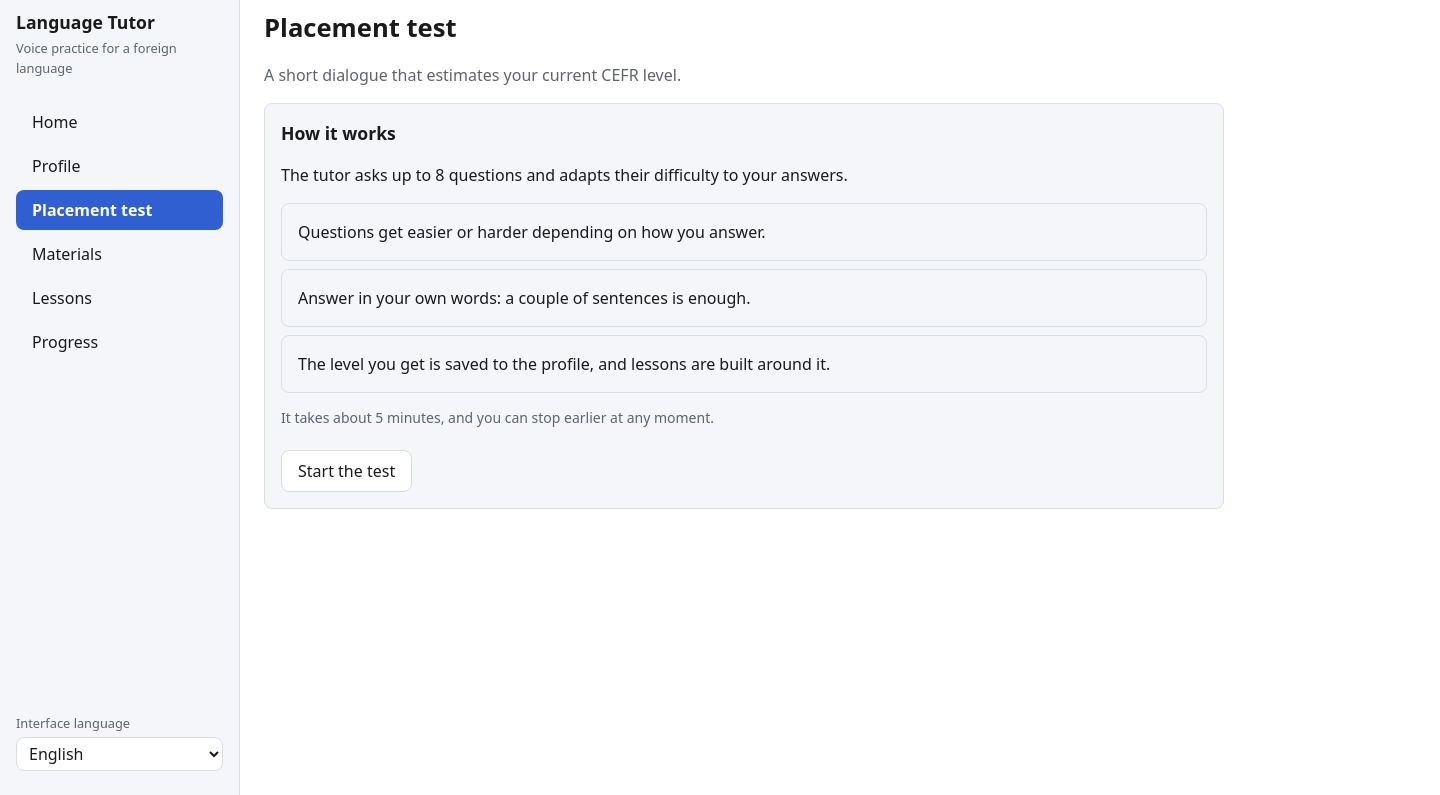
сквозной прогон теста › ведёт от интро через три ответа к уровню и записывает его в профиль
The width and height of the screenshot is (1440, 795).
Step 1. Click the button "Start the test" → (347, 471), box [281, 450, 412, 492]
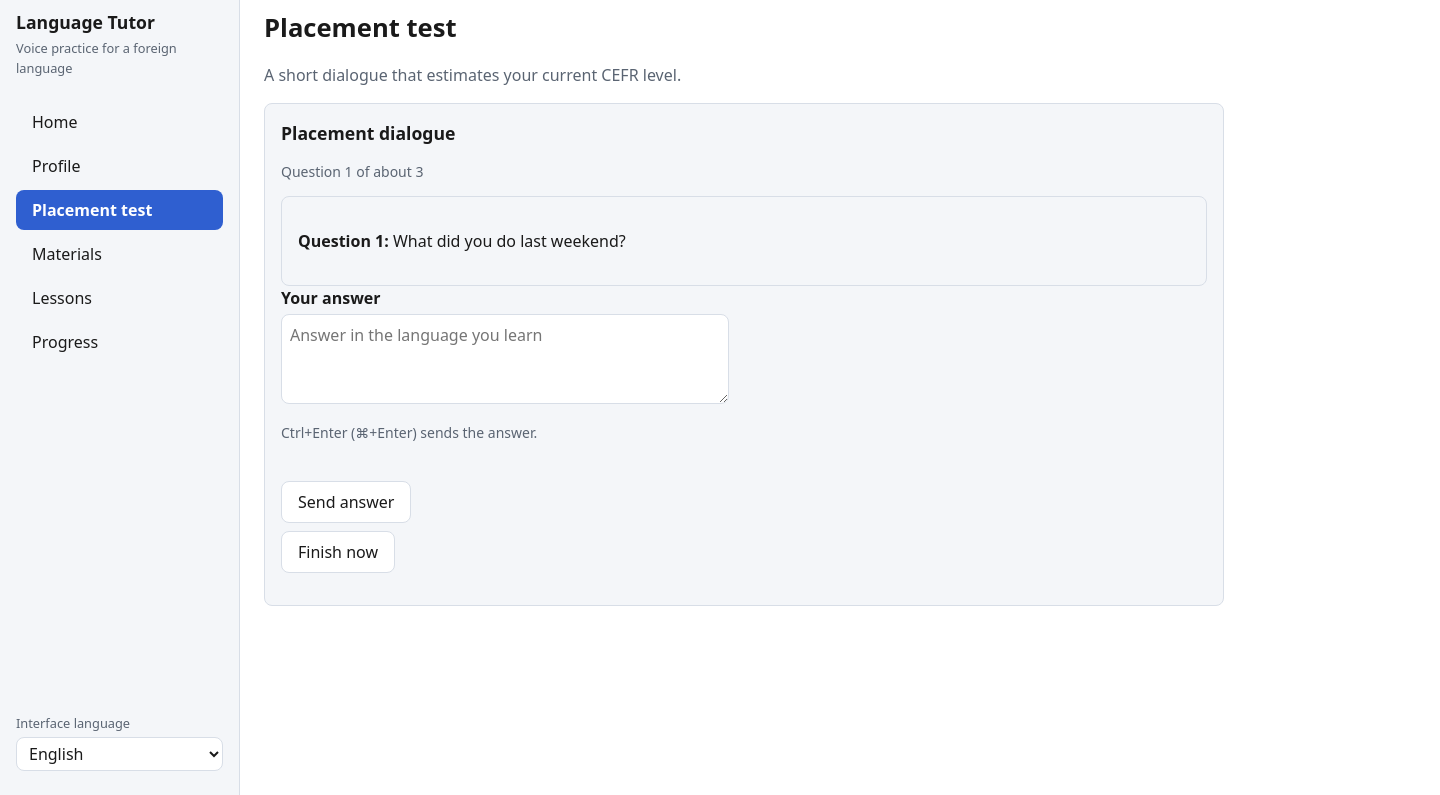
Now the text "What did you do last weekend?" is shown, box [393, 230, 626, 252]
Step 2. Type "I went hiking." into the text box labelled "Your answer" → (505, 359), box [281, 314, 729, 404]
Step 3. Click the button "Send answer" → (346, 502), box [281, 481, 411, 523]
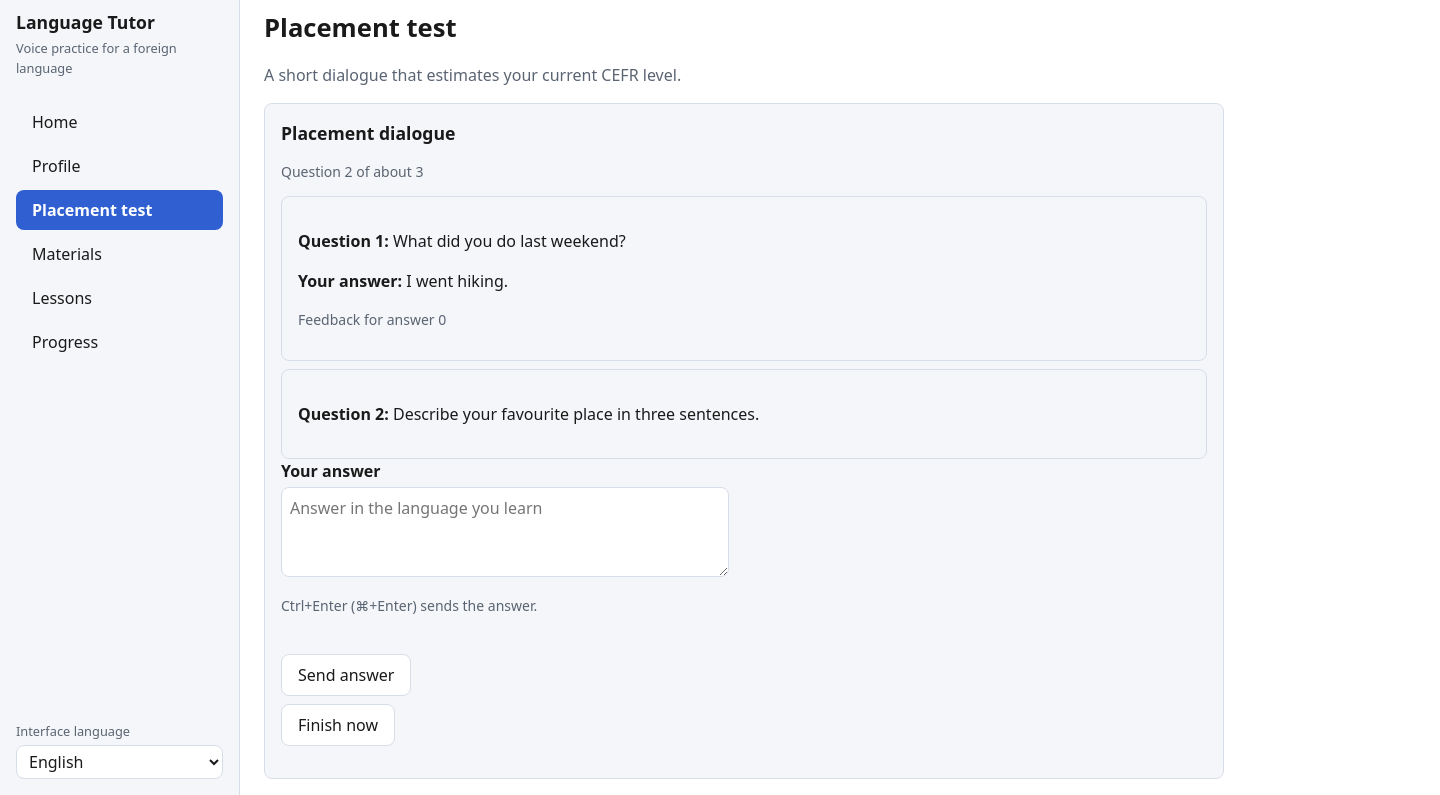
Now the text "Describe your favourite place in three sentences." is shown, box [393, 403, 759, 425]
Step 4. Type "It is a quiet park near my home." into the text box labelled "Your answer" → (505, 532), box [281, 487, 729, 577]
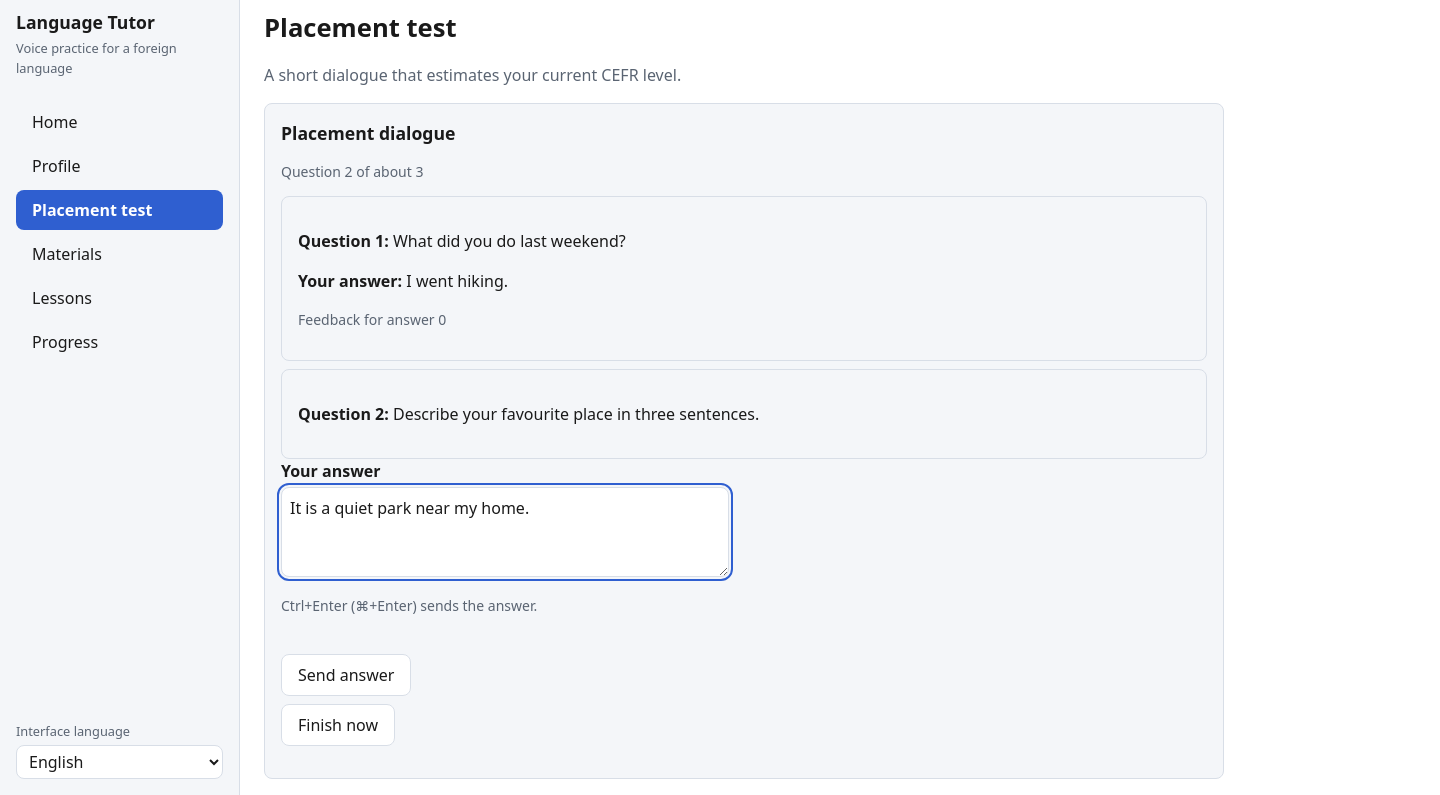
Step 5. Click the button "Send answer" → (346, 675), box [281, 654, 411, 696]
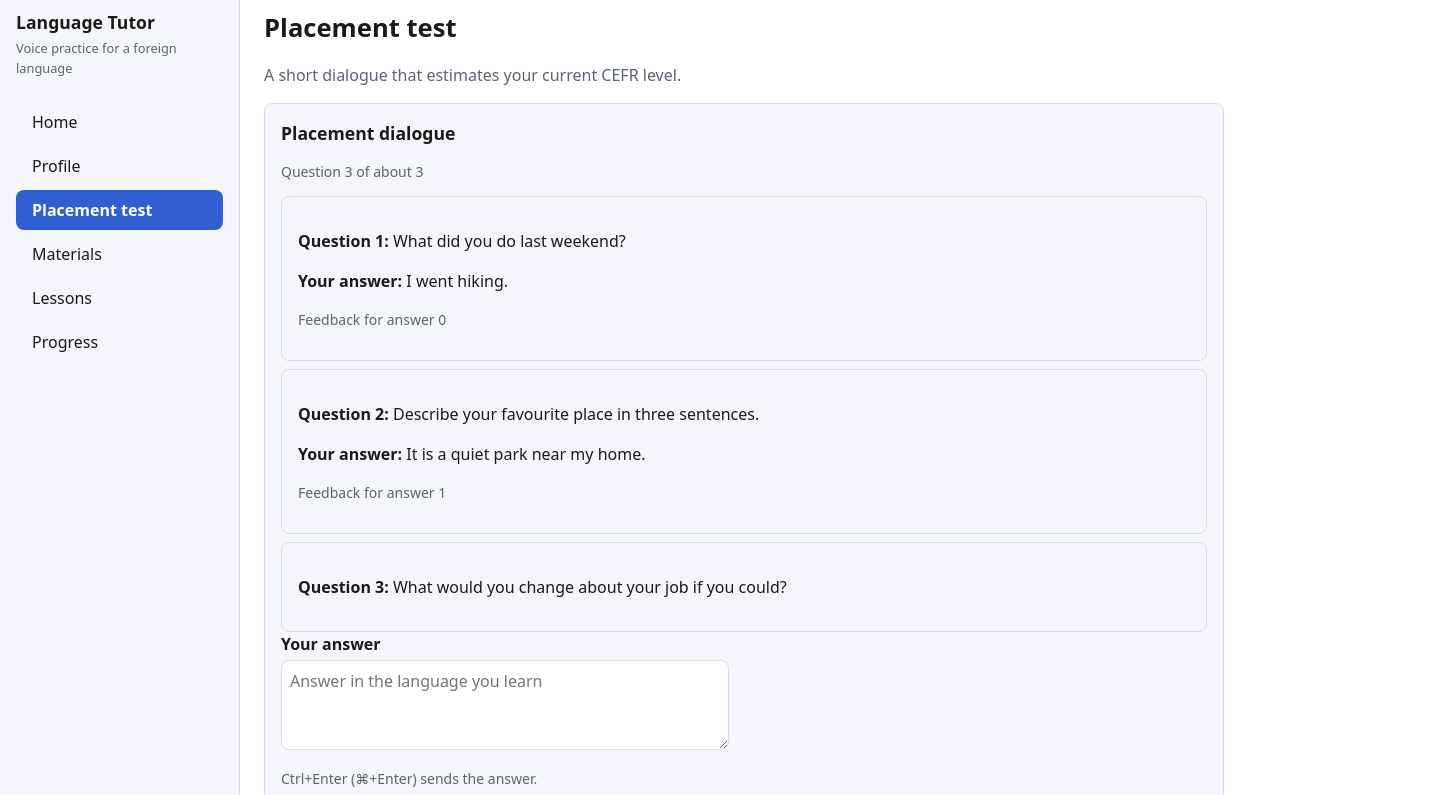
Now the text "What would you change about your job if you could?" is shown, box [393, 576, 787, 598]
Step 6. Type "I would work less." into the text box labelled "Your answer" → (505, 705), box [281, 660, 729, 750]
(page scrolled)
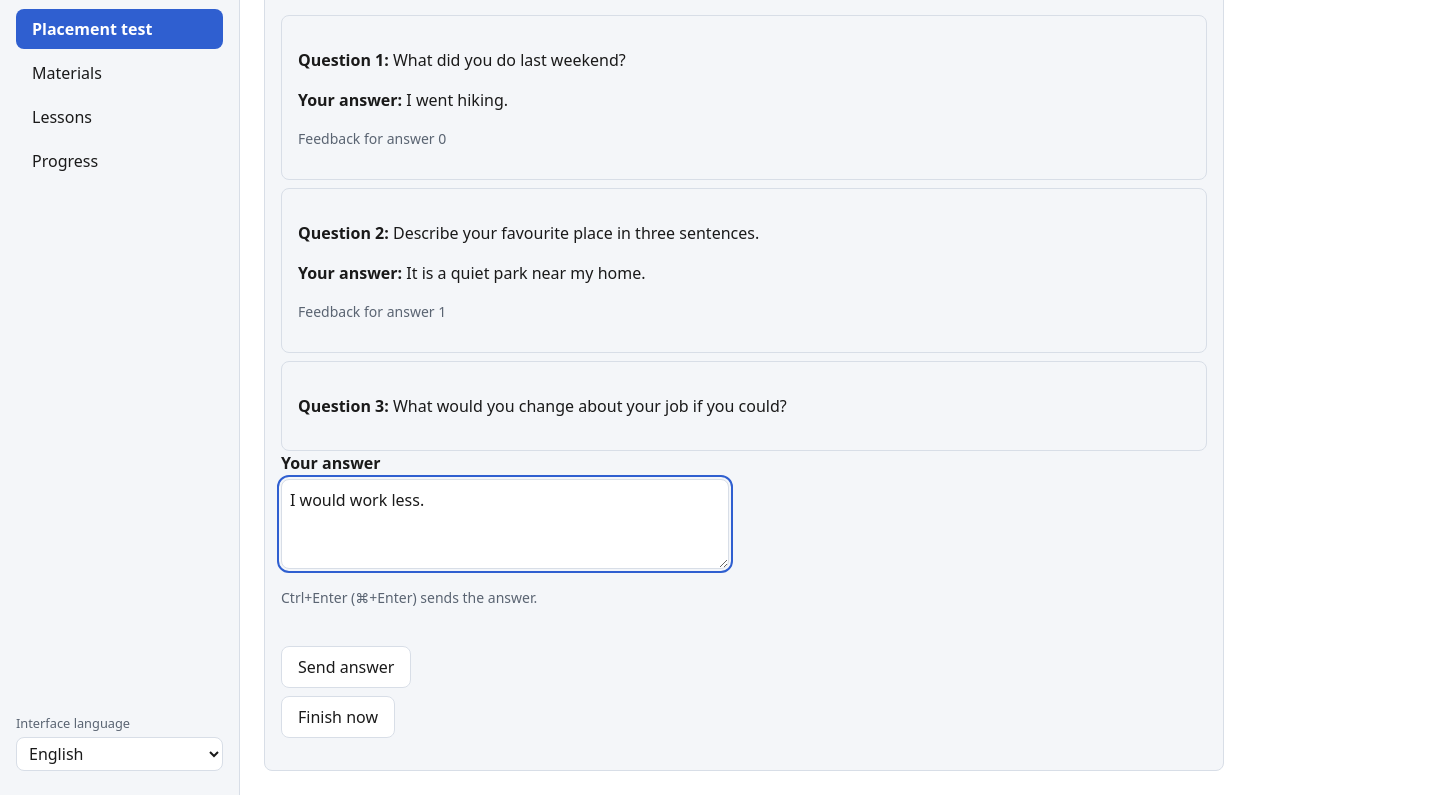
Step 7. Click the button "Send answer" → (346, 667), box [281, 646, 411, 688]
(page scrolled)
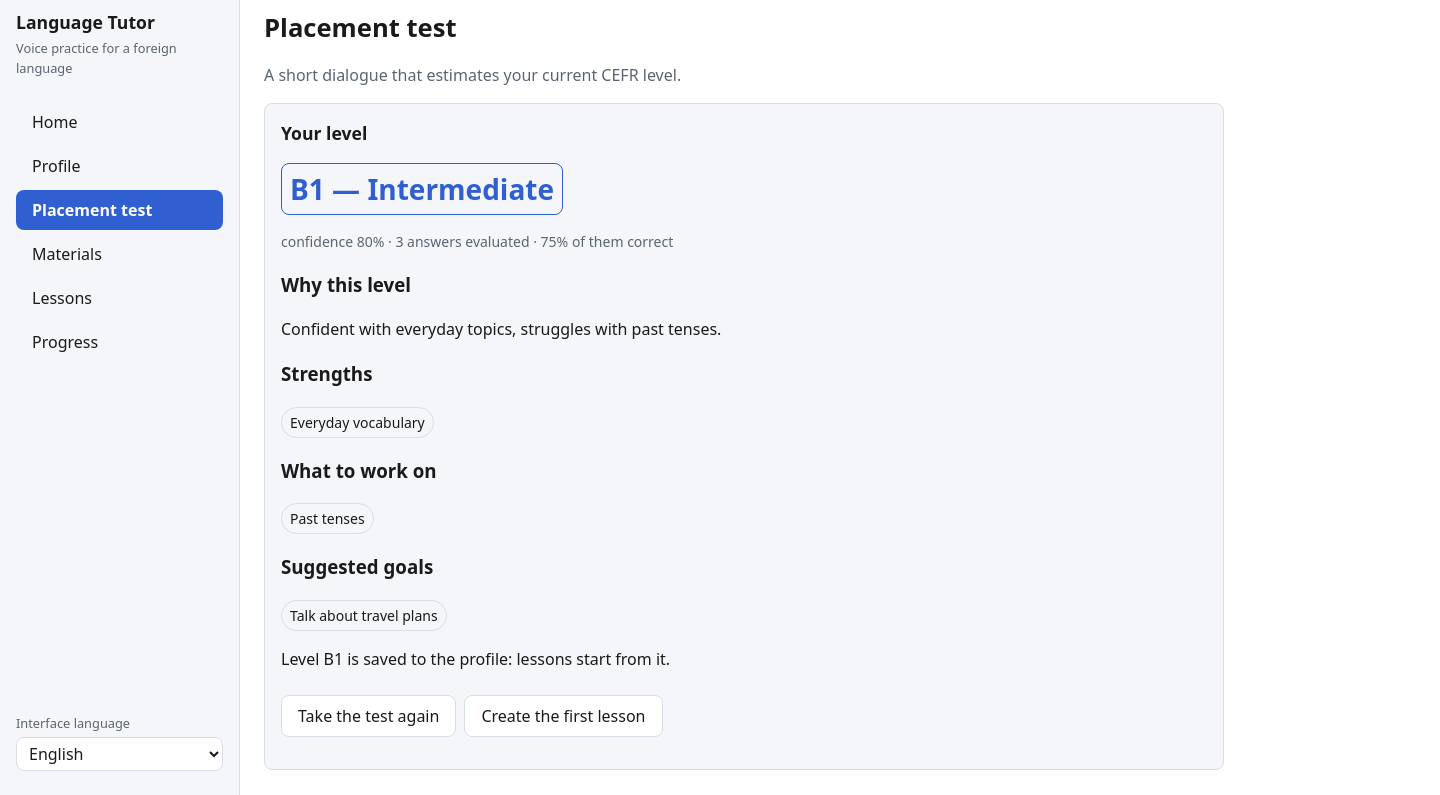
Now the text "Confident with everyday topics, struggles with past tenses." is shown, box [281, 318, 721, 340]
Now the list item "Everyday vocabulary" is shown, box [281, 407, 434, 438]
Now the list item "Past tenses" is shown, box [281, 503, 374, 534]
